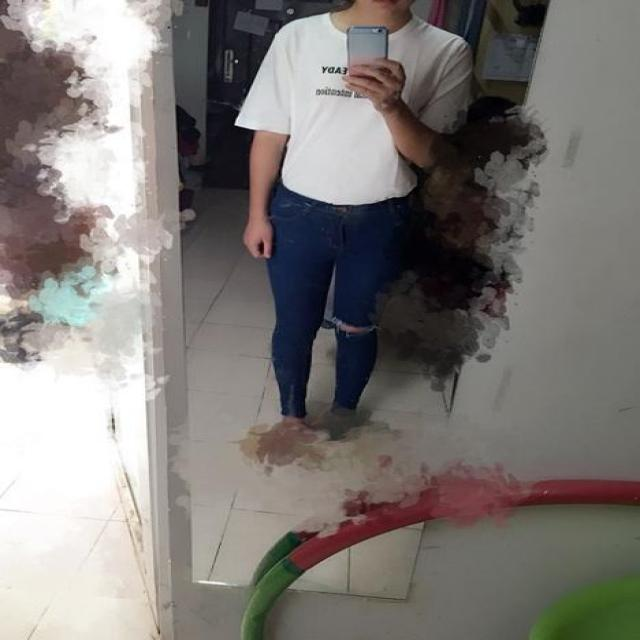short-sleeve-top: (237, 22, 476, 212)
